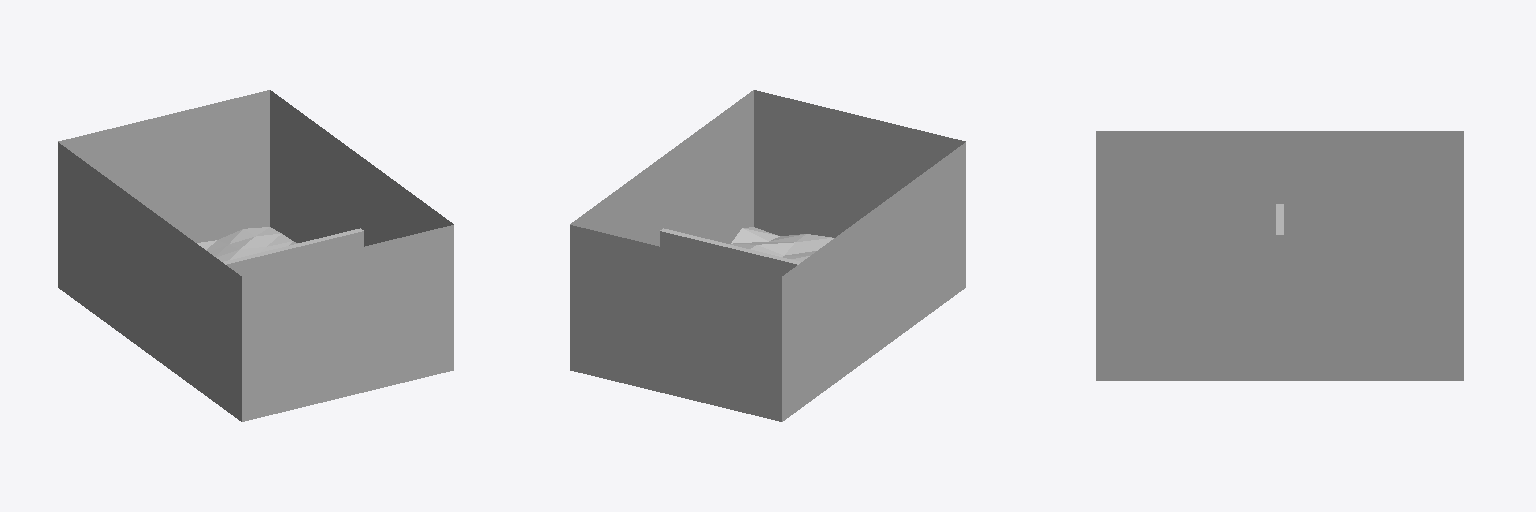
Rendered from courtHitbox.obj.
The picture shows the model from 3 angles: view 1: azimuth 30°, elevation 25°; view 2: azimuth 150°, elevation 25°; view 3: azimuth 270°, elevation 25°; orthographic projection.
Parts seen in each view (by area): view 1: Cube, Cube.001, Plane; view 2: Cube, Cube.001, Plane; view 3: Cube, Cube.001.
Part boxes in pixels (x1,y1,x2,y2): Cube: (58, 90, 453, 421); Cube.001: (149, 228, 363, 281); Plane: (197, 227, 297, 261); Cube: (570, 90, 965, 421); Cube.001: (660, 228, 800, 275); Plane: (730, 227, 833, 261); Cube: (1096, 131, 1463, 380); Cube.001: (1276, 204, 1283, 373).
Size of the model in its own units: 20 by 13.09 by 30.